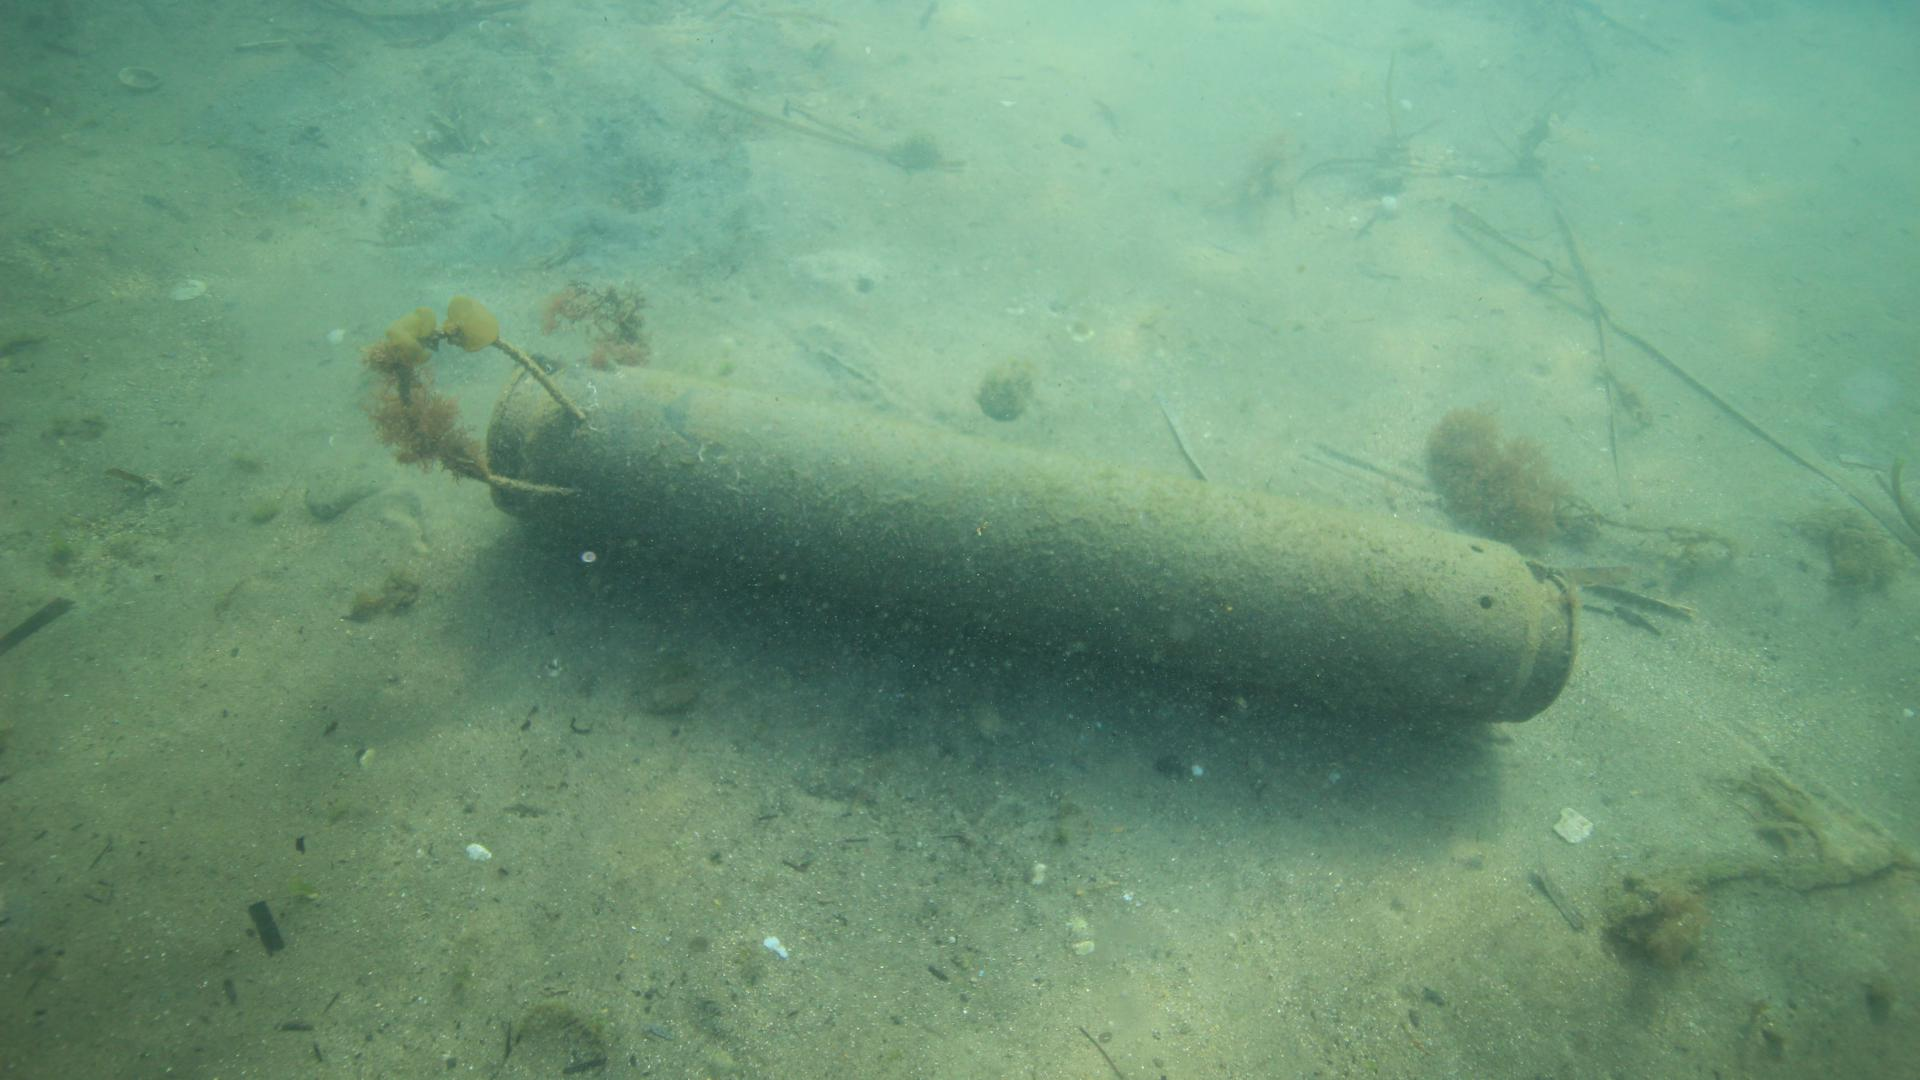eel fish trap: (483, 356, 1582, 727)
rope: (393, 320, 600, 498)
